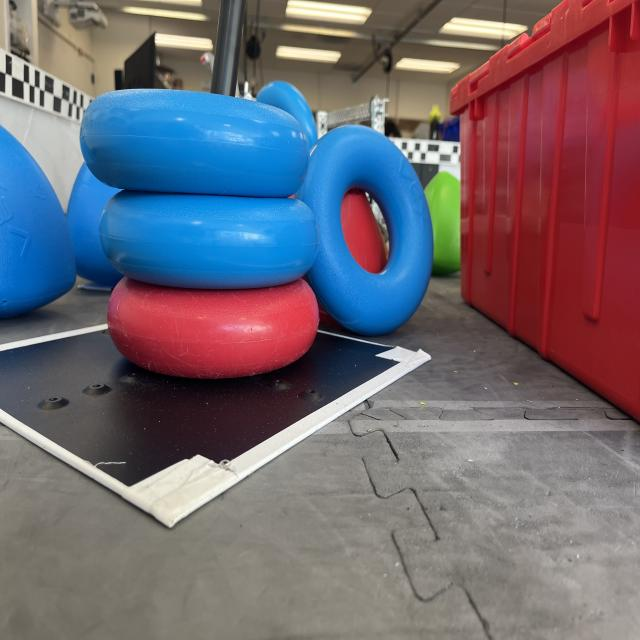Blue-Ring: (295, 125, 434, 335), (80, 88, 310, 198), (99, 190, 319, 290), (256, 82, 318, 148)
Red-Ring: (108, 277, 319, 378)
